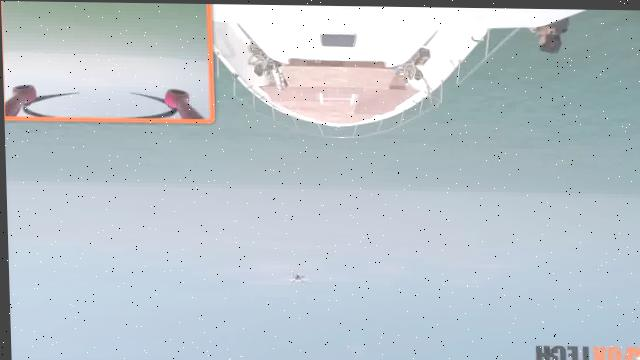drone: (273, 265, 312, 286)
